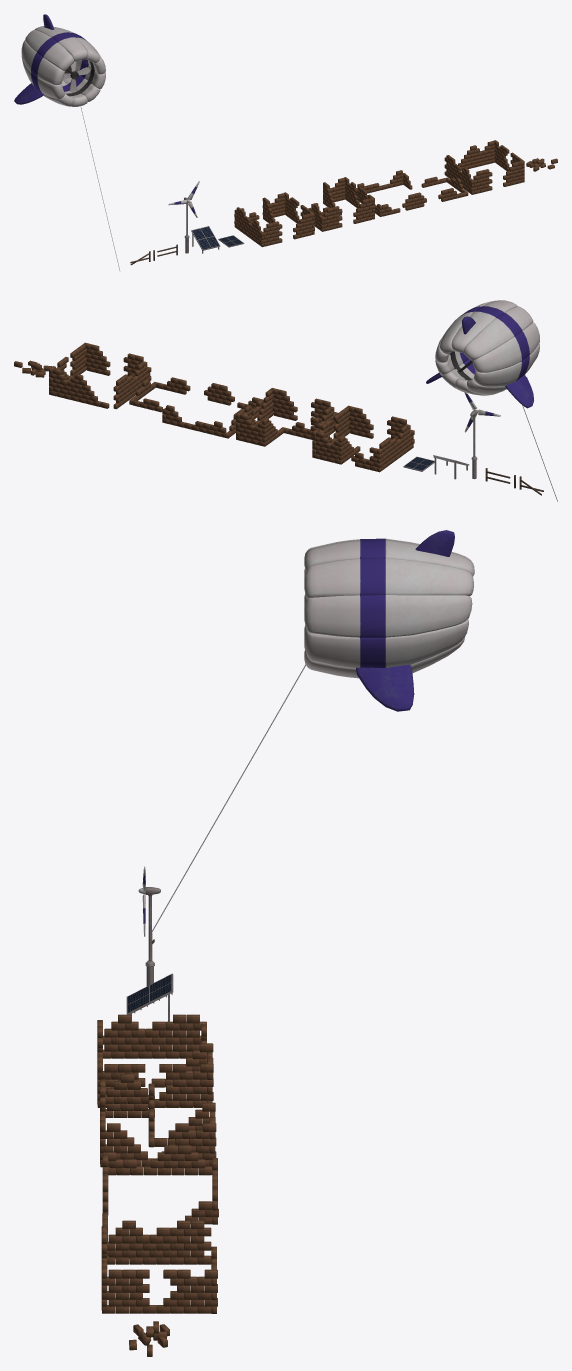
Rendered from ForestStructures2.fbx.
3 views of the same model, one above another, from view 1: azimuth 30°, elevation 25°; view 2: azimuth 150°, elevation 25°; view 3: azimuth 270°, elevation 25° (orthographic). The views are drawn at different scales.
Visible parts, largest first — view 1: Baloon, RuinVar1, RuinVar3, RuinVar4, RuinVar2, SolarPlateGround; view 2: Baloon, RuinVar3, RuinVar1, RuinVar4, RuinVar2, BrickStack, SolarPlate, WindTurbine; view 3: Baloon, RuinVar1, RuinVar3, RuinVar4, RuinVar2, SolarPlateGround.
Boxes of the visible parts, <box> form: Baloon: <box>14,14,120,271</box>; RuinVar1: <box>444,140,524,194</box>; RuinVar3: <box>234,192,314,247</box>; RuinVar4: <box>308,177,374,231</box>; RuinVar2: <box>356,170,468,216</box>; SolarPlateGround: <box>191,226,220,253</box>; Baloon: <box>426,300,557,501</box>; RuinVar3: <box>312,405,414,472</box>; RuinVar1: <box>49,342,151,409</box>; RuinVar4: <box>236,388,337,446</box>; RuinVar2: <box>129,377,263,438</box>; BrickStack: <box>22,360,51,377</box>; SolarPlate: <box>403,456,434,471</box>; WindTurbine: <box>470,409,478,479</box>; Baloon: <box>152,530,474,932</box>; RuinVar1: <box>101,1220,217,1313</box>; RuinVar3: <box>97,1014,213,1107</box>; RuinVar4: <box>100,1074,216,1167</box>; RuinVar2: <box>102,1145,218,1258</box>; SolarPlateGround: <box>126,973,173,1021</box>.
Bounding box in the file's own units: 7126 × 2881 × 2430.
